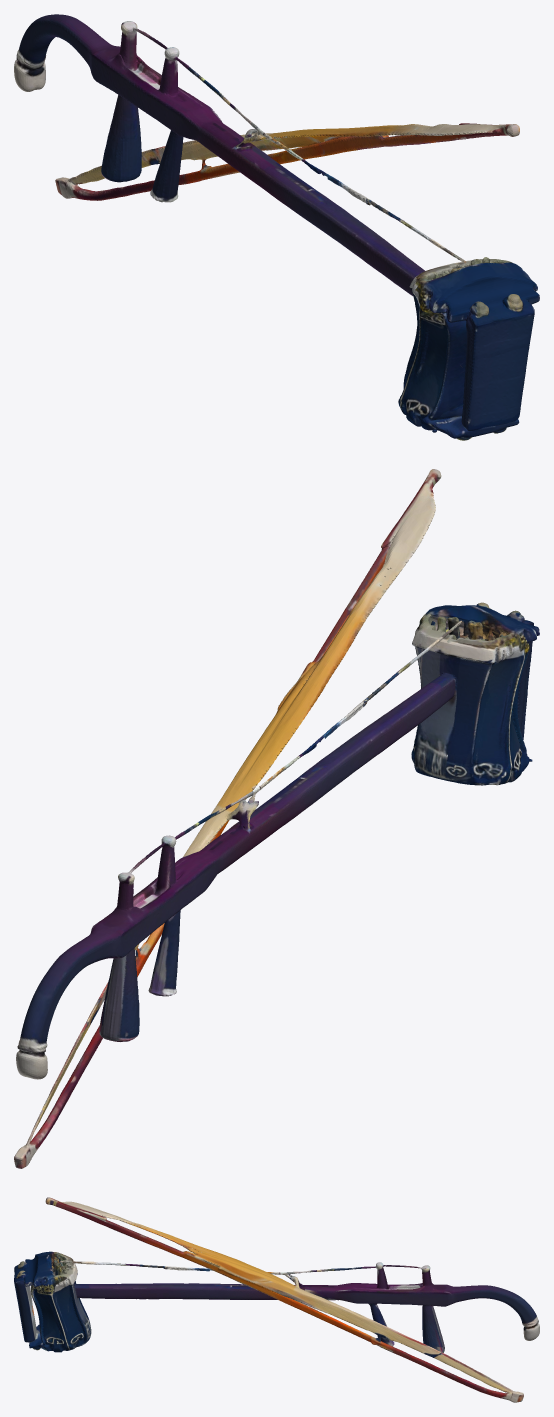
File: gaohu.glb
3 views of the same model, one above another, from view 1: azimuth 30°, elevation 25°; view 2: azimuth 150°, elevation 25°; view 3: azimuth 270°, elevation 25° (orthographic). The views are drawn at different scales.
Visible parts, largest first — view 1: tripo_node_684f756b-69bf-4cdc-a1ae-73f34fed1ef4; view 2: tripo_node_684f756b-69bf-4cdc-a1ae-73f34fed1ef4; view 3: tripo_node_684f756b-69bf-4cdc-a1ae-73f34fed1ef4.
Boxes of the visible parts, left/top/right/bottom form: tripo_node_684f756b-69bf-4cdc-a1ae-73f34fed1ef4: left=14, top=14, right=539, bottom=440; tripo_node_684f756b-69bf-4cdc-a1ae-73f34fed1ef4: left=14, top=469, right=539, bottom=1168; tripo_node_684f756b-69bf-4cdc-a1ae-73f34fed1ef4: left=14, top=1197, right=539, bottom=1402.
Size of the model in its own units: 14.78 by 50.65 by 116.
1 material, 1 textured.
